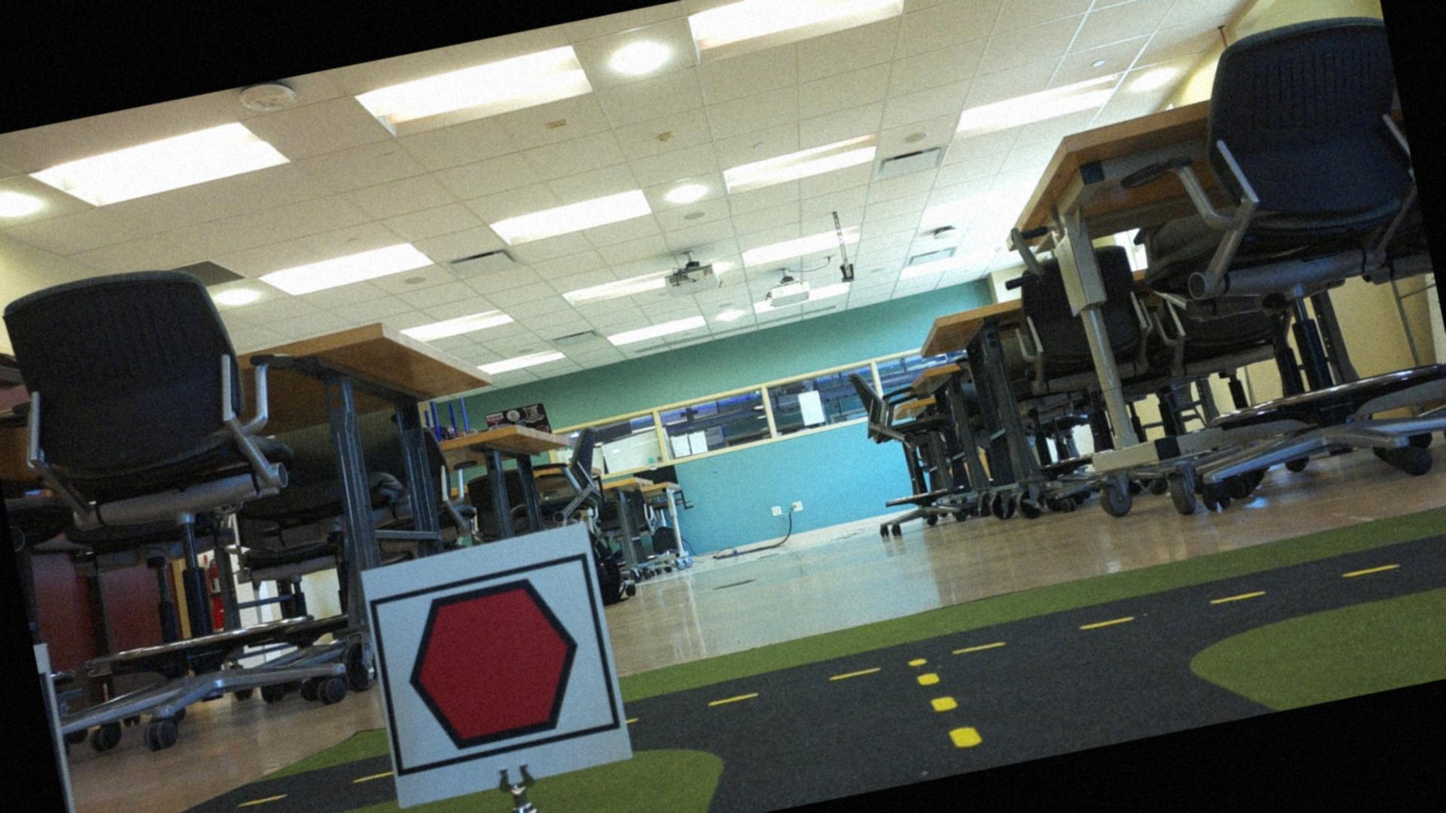stop: (380, 562, 608, 766)
yellowline: (910, 645, 983, 759)
